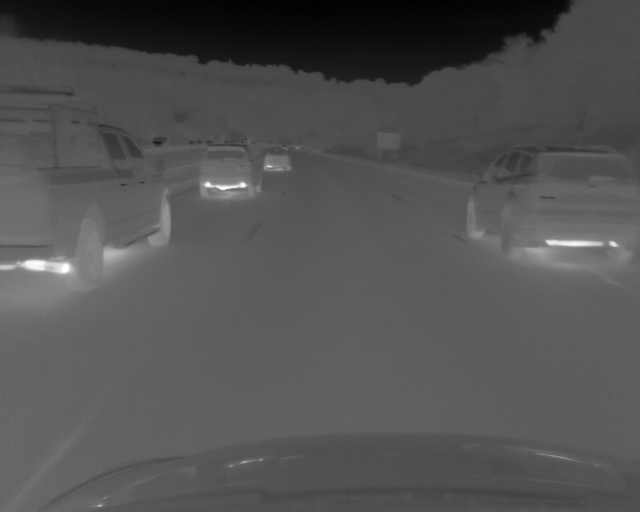car: (1, 88, 172, 291), (464, 144, 639, 263), (199, 141, 263, 198), (264, 145, 294, 171)
